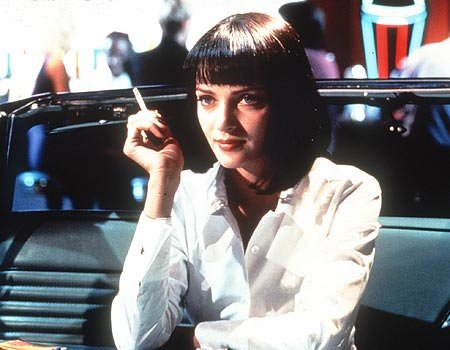cigarette: (127, 85, 155, 114)
